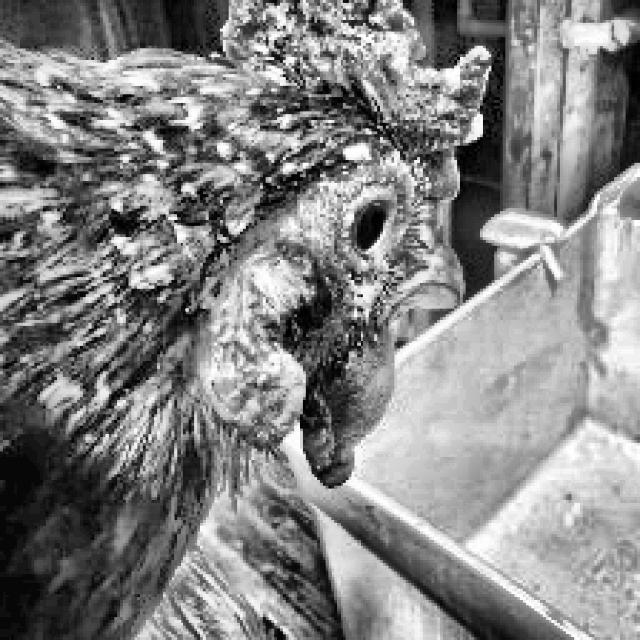Fowlpox: (166, 0, 462, 501)
